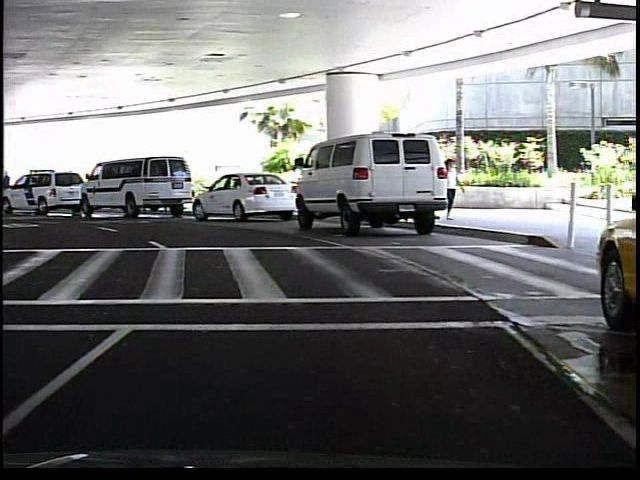person: (443, 152, 465, 226)
